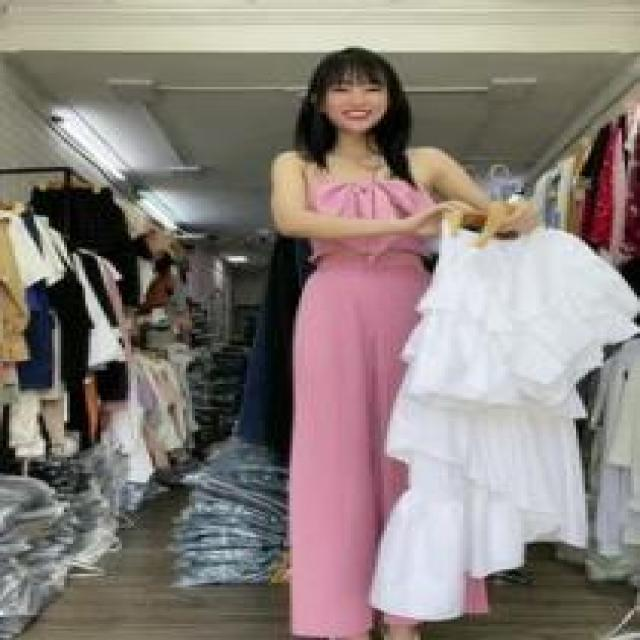clothes: (274, 148, 453, 634)
